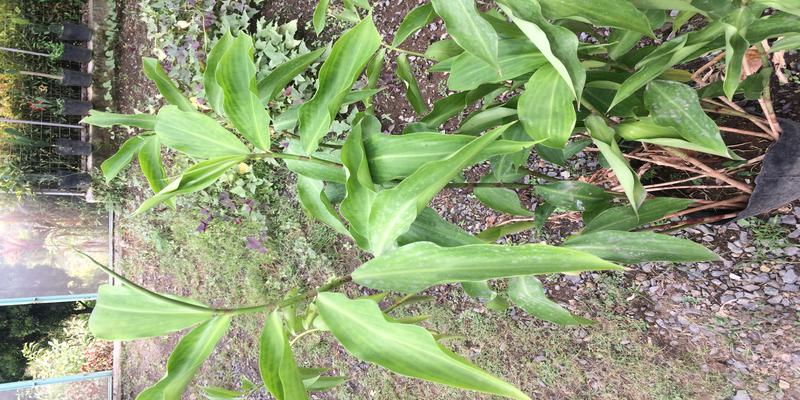Insulin: (244, 13, 768, 305)
